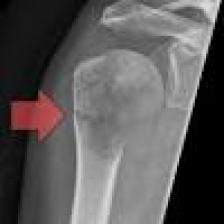pathological-fracture: (18, 0, 224, 224)
